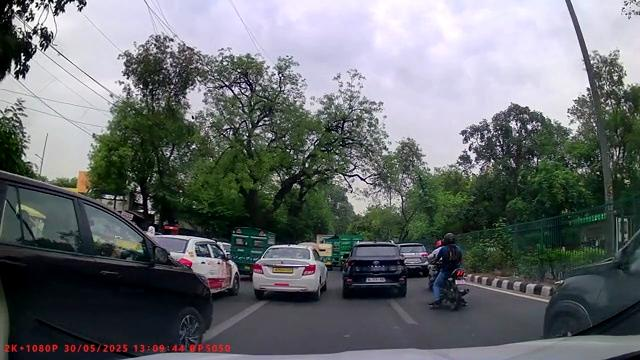motorcycle_with_helmet: (427, 231, 470, 311)
